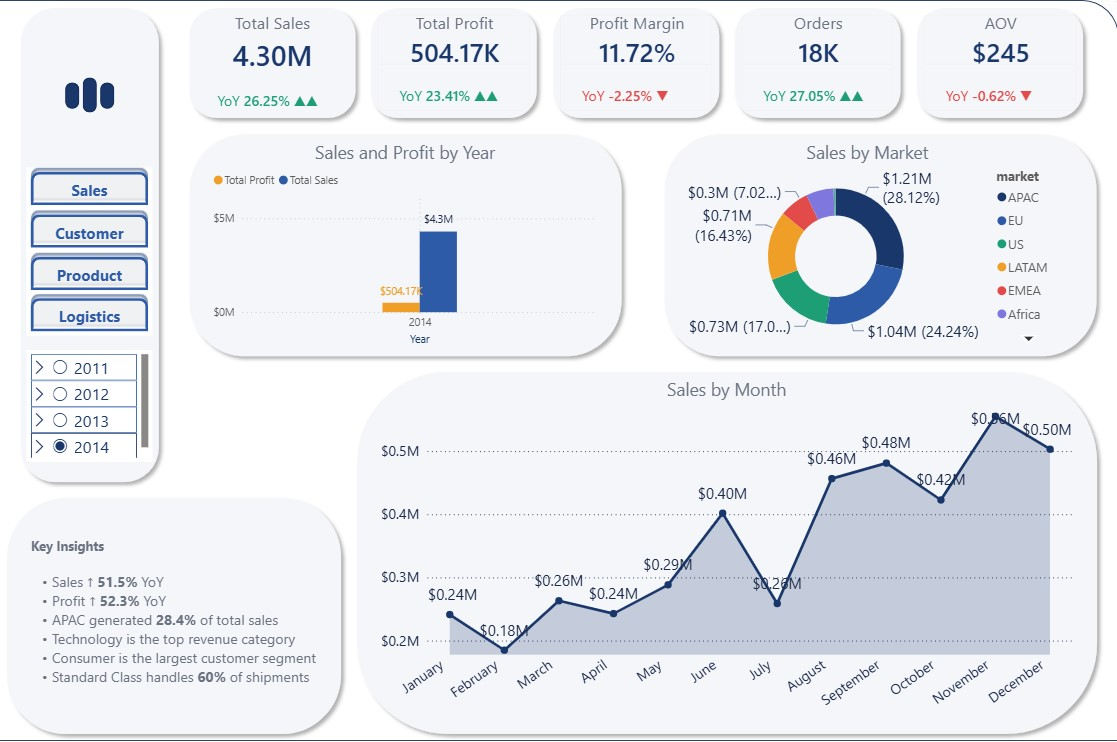

The dashboard page shown, as its layout file describes it:
{"tool":"powerbi","page":{"name":"Executive Summary","canvas":[1280,850],"ordinal":0},"visuals":[{"type":"shape","box":[0,0,1280,848],"z":0},{"type":"shape","box":[16,0,176,560],"z":1000},{"type":"shape","box":[752,144,512,272],"z":2000},{"type":"shape","box":[400,416,864,432],"z":3000},{"type":"shape","box":[208,144,512,272],"z":4000},{"type":"shape","box":[208,0,208,144],"z":5000},{"type":"shape","box":[832,0,208,144],"z":6000},{"type":"shape","box":[624,0,208,144],"z":7000},{"type":"shape","box":[416,0,208,144],"z":8000},{"type":"shape","box":[1040,0,208,144],"z":9000},{"type":"cardVisual","fields":{"Data":["KPIs.Total Sales"]},"box":[208,0,208,160],"z":10000},{"type":"cardVisual","fields":{"Data":["KPIs.Total Profit"]},"box":[416,0,208,144],"z":11000},{"type":"cardVisual","fields":{"Data":["KPIs.Profit Margin"]},"box":[624,0,208,144],"z":12000},{"type":"cardVisual","fields":{"Data":["KPIs.Orders"]},"box":[832,0,208,144],"z":13000},{"type":"cardVisual","fields":{"Data":["KPIs.AOV"]},"box":[1040,0,208,144],"z":14000},{"type":"lineChart","title":"Sales by Month","fields":{"Y":["Sum(FactSales.sales)"],"Category":["Date Table.Month"]},"box":[432,432,800,400],"z":15000},{"type":"donutChart","title":"Sales by Market","fields":{"Y":["Sum(FactSales.sales)"],"Category":["FactSales.market"]},"box":[768,160,448,240],"z":16000},{"type":"clusteredColumnChart","title":"Sales and Profit by Year","fields":{"Y":["Sum(FactSales.profit)","Sum(FactSales.sales)"],"Category":["Date Table.Year"]},"box":[240,160,448,240],"z":17000},{"type":"listSlicer","fields":{"Values":["Date Table.Date.Variation.Date Hierarchy.Year","Date Table.Date.Variation.Date Hierarchy.Quarter","Date Table.Date.Variation.Date Hierarchy.Month","Date Table.Date.Variation.Date Hierarchy.Day"]},"box":[32,400,144,128],"z":18000},{"type":"actionButton","box":[32,192,144,48],"z":19000},{"type":"actionButton","box":[32,240,144,48],"z":20000},{"type":"actionButton","box":[32,288,144,48],"z":21000},{"type":"actionButton","box":[32,336,144,48],"z":22000},{"type":"shape","box":[96,88,16,40],"z":23000},{"type":"shape","box":[116,94,16,30],"z":24000},{"type":"shape","box":[76,94,16,30],"z":25000},{"type":"shape","box":[0,560,400,288],"z":25001},{"type":"textbox","box":[32,608,336,192],"z":25002}]}

Visuals, with their boxes in screenshot pixels (x1, y1, x2, y2), scaled from the page's 1280x850 canvas onto the 1117x742 screenshot:
shape: Rect(0, 0, 1116, 740)
shape: Rect(14, 0, 168, 489)
shape: Rect(656, 126, 1103, 363)
shape: Rect(349, 363, 1103, 740)
shape: Rect(182, 126, 628, 363)
shape: Rect(182, 0, 363, 126)
shape: Rect(726, 0, 908, 126)
shape: Rect(545, 0, 726, 126)
shape: Rect(363, 0, 545, 126)
shape: Rect(908, 0, 1089, 126)
cardVisual - KPIs.Total Sales: Rect(182, 0, 363, 140)
cardVisual - KPIs.Total Profit: Rect(363, 0, 545, 126)
cardVisual - KPIs.Profit Margin: Rect(545, 0, 726, 126)
cardVisual - KPIs.Orders: Rect(726, 0, 908, 126)
cardVisual - KPIs.AOV: Rect(908, 0, 1089, 126)
"Sales by Month" lineChart: Rect(377, 377, 1075, 726)
"Sales by Market" donutChart: Rect(670, 140, 1061, 349)
"Sales and Profit by Year" clusteredColumnChart: Rect(209, 140, 600, 349)
listSlicer - Date Table.Date.Variation.Date Hierarchy.Year x Date Table.Date.Variation.Date Hierarchy.Quarter: Rect(28, 349, 154, 461)
actionButton: Rect(28, 168, 154, 210)
actionButton: Rect(28, 210, 154, 251)
actionButton: Rect(28, 251, 154, 293)
actionButton: Rect(28, 293, 154, 335)
shape: Rect(84, 77, 98, 112)
shape: Rect(101, 82, 115, 108)
shape: Rect(66, 82, 80, 108)
shape: Rect(0, 489, 349, 740)
textbox: Rect(28, 531, 321, 698)
